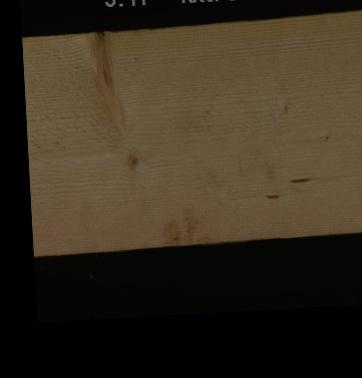small_knot: (123, 145, 140, 174)
